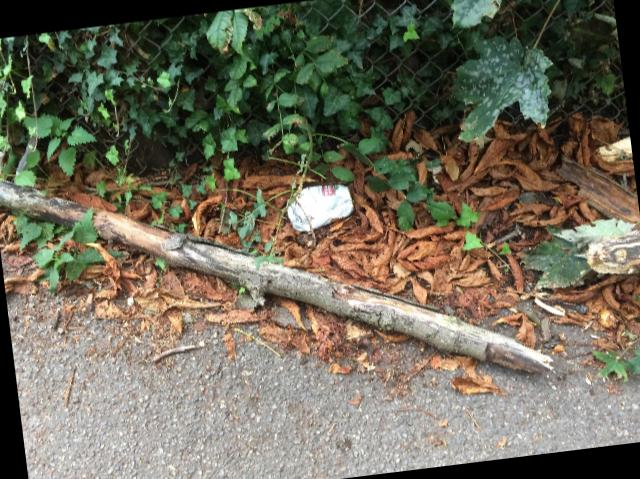metal: (286, 184, 352, 231)
